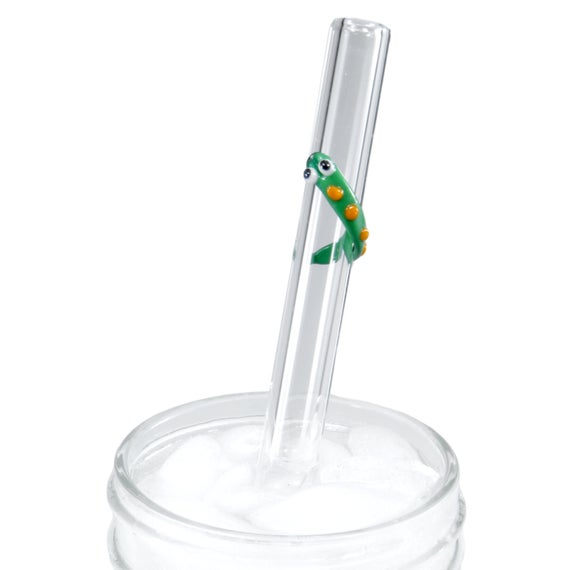Drinking Straw: (255, 12, 395, 498)
